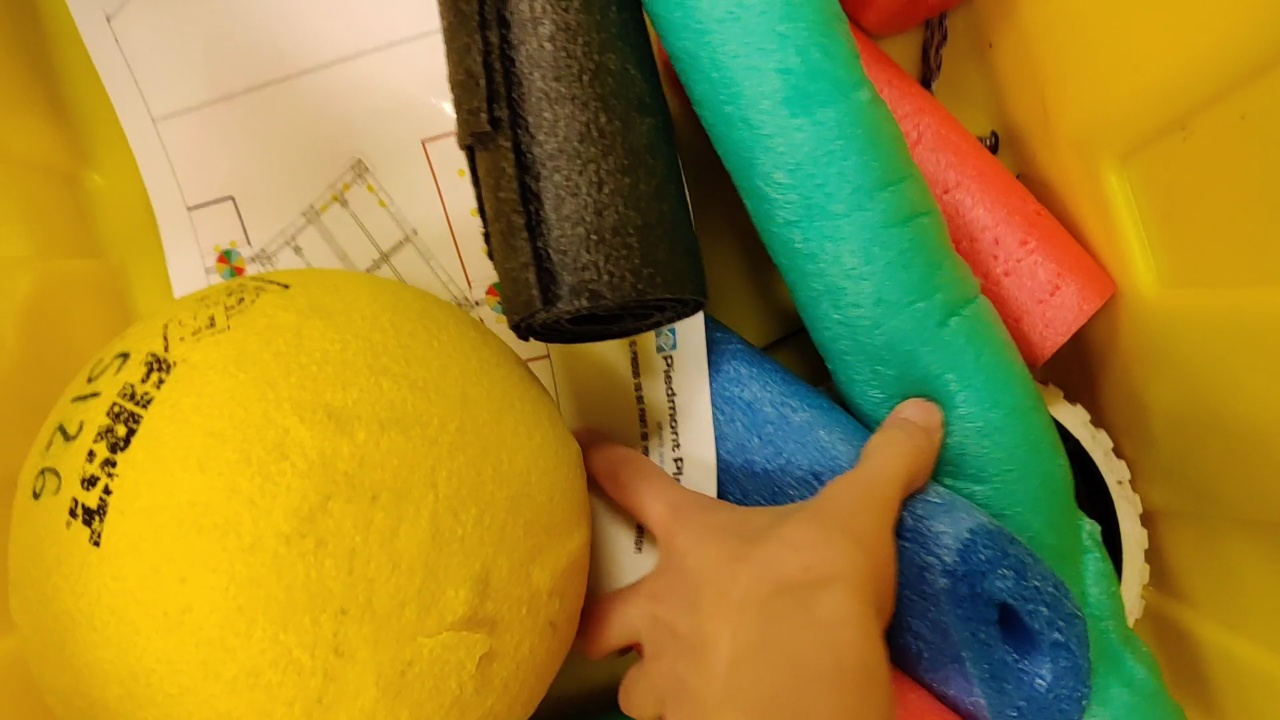Ball: (11, 266, 589, 717)
